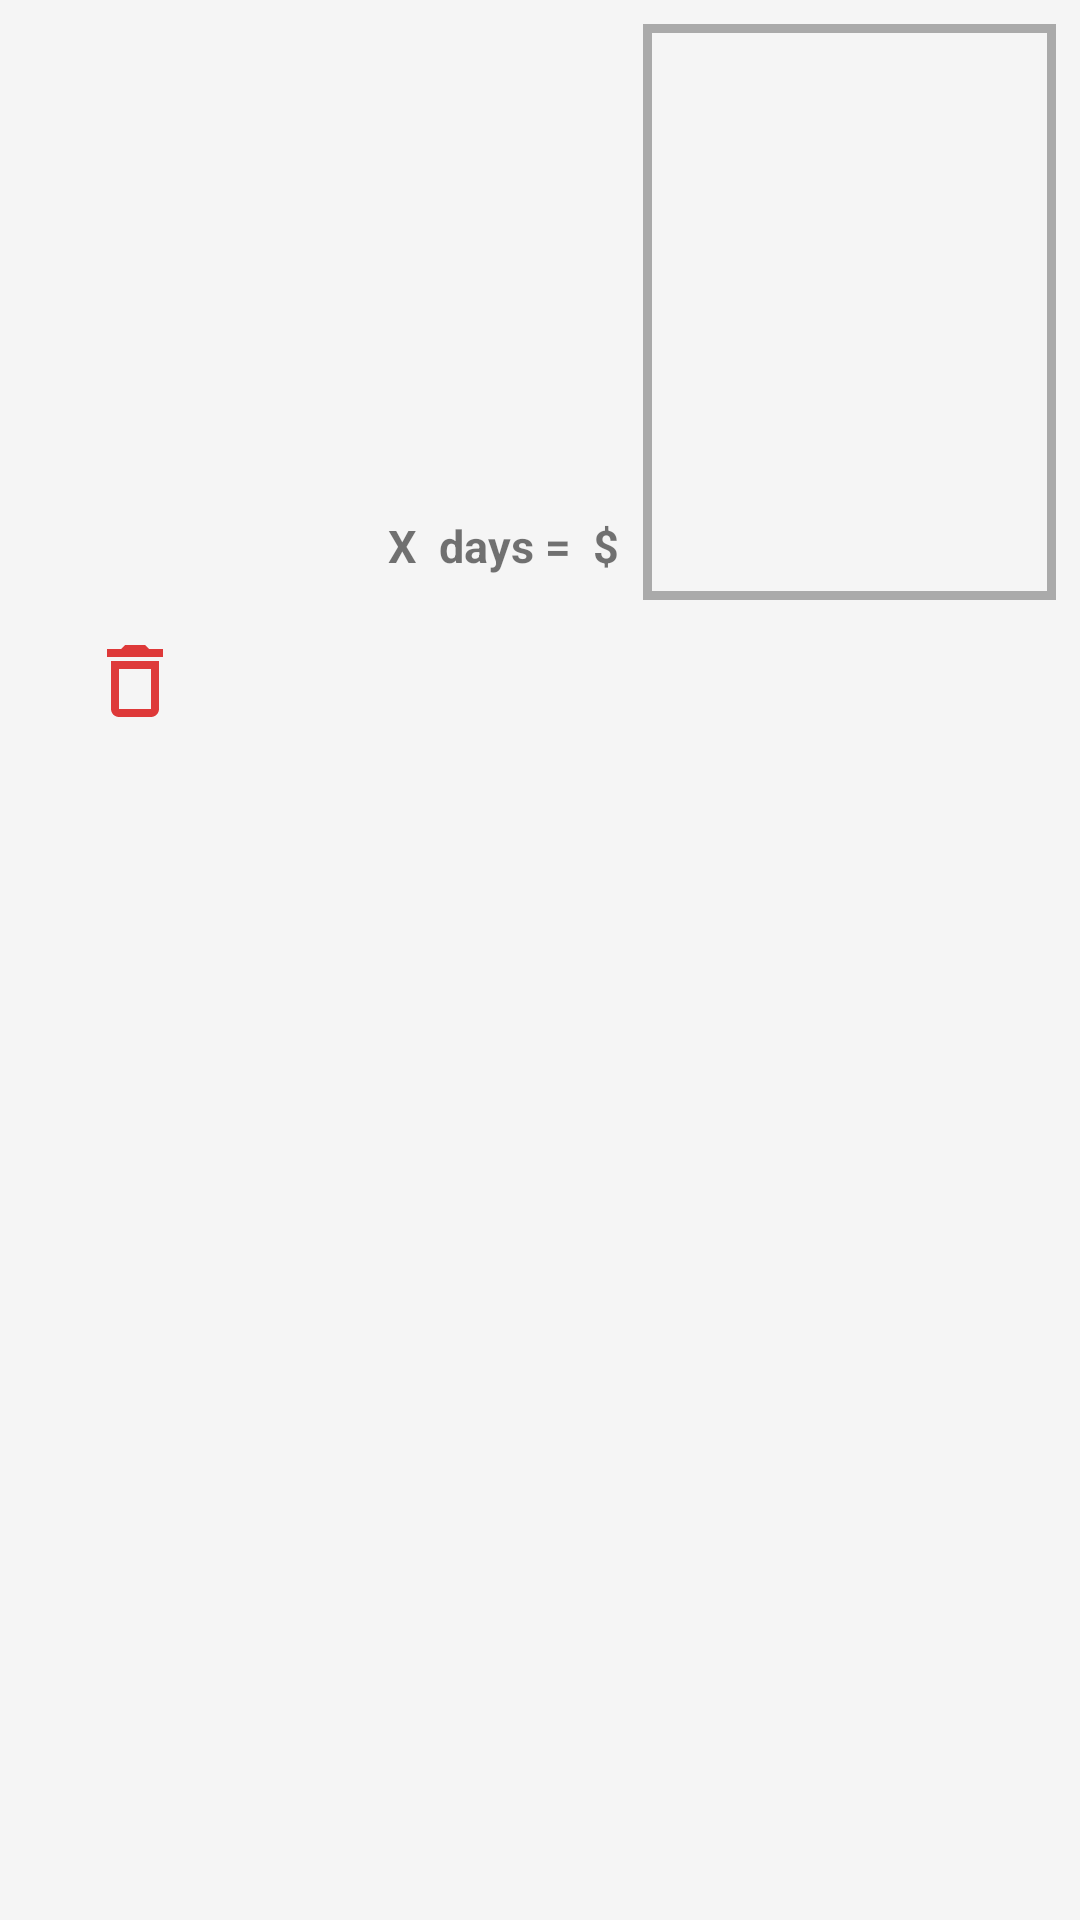

Point at icon controls on the screen. Image size 1080 × 1920, points as [x,y].
Trash Symbol: [135,681]
